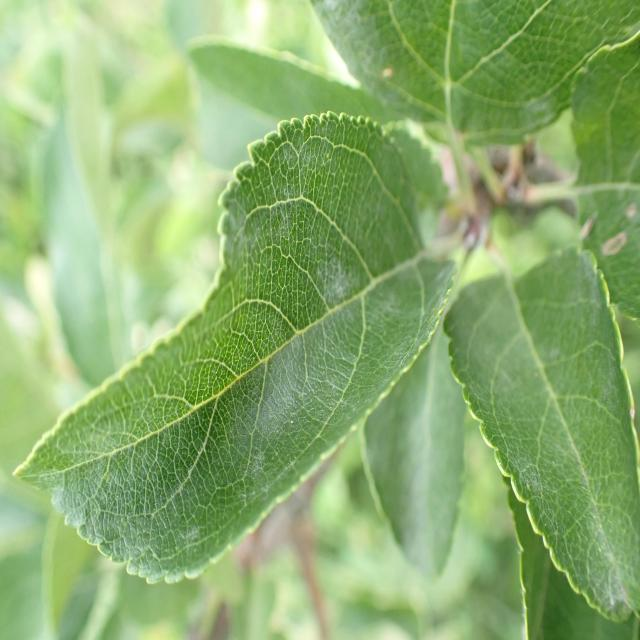Black Rot: (579, 201, 635, 267)
Powdery_mildew: (55, 108, 458, 575), (457, 234, 640, 640), (320, 0, 585, 169)
